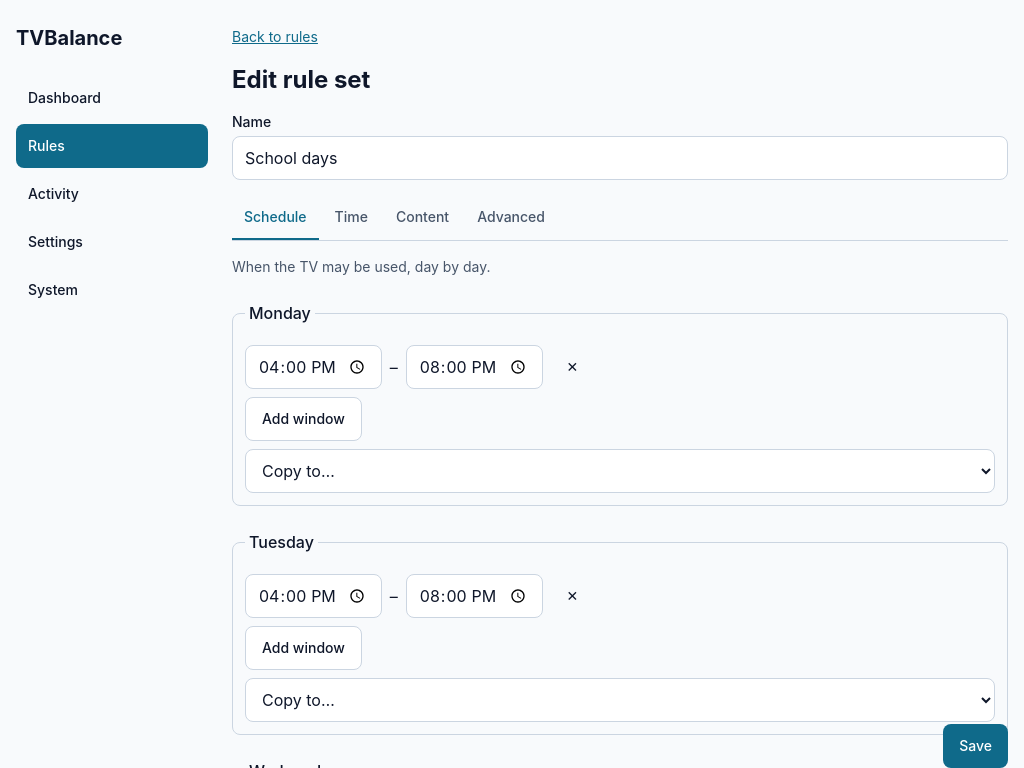
Test: rule editor › saves edits with a PUT carrying the CSRF header
Click the tab "Time" at (351, 218), box x1=323 y1=196 x2=380 y2=240
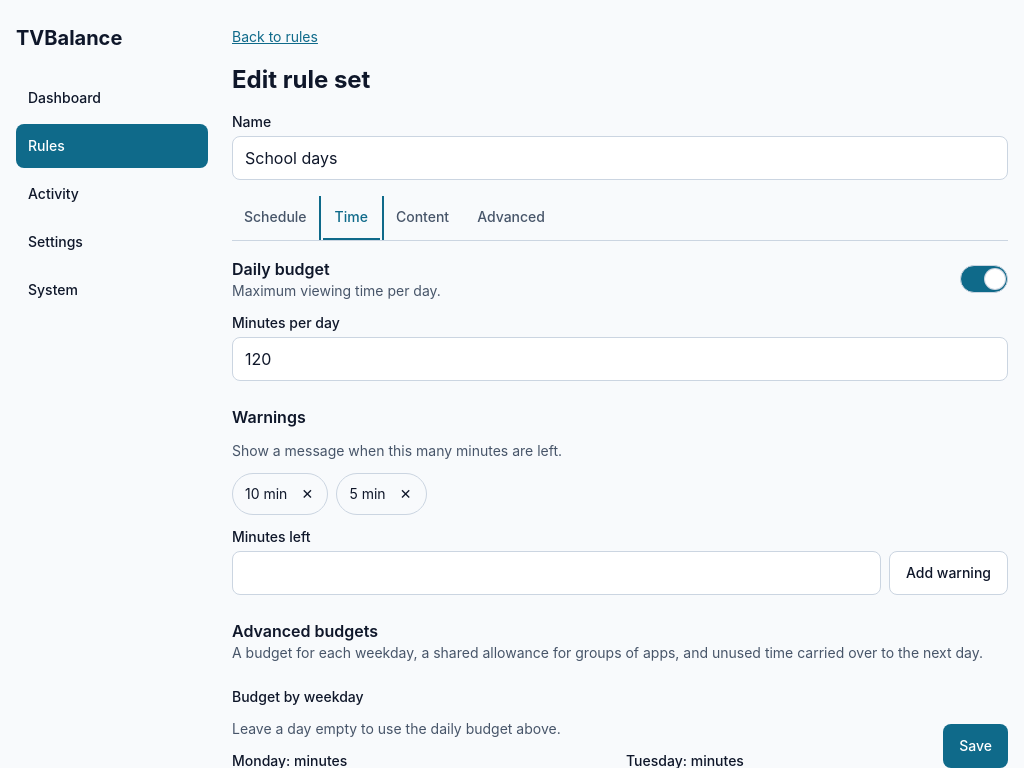
Replace the text in the number field labelled "Minutes per day" with "90" at (620, 359), box x1=232 y1=337 x2=1008 y2=381
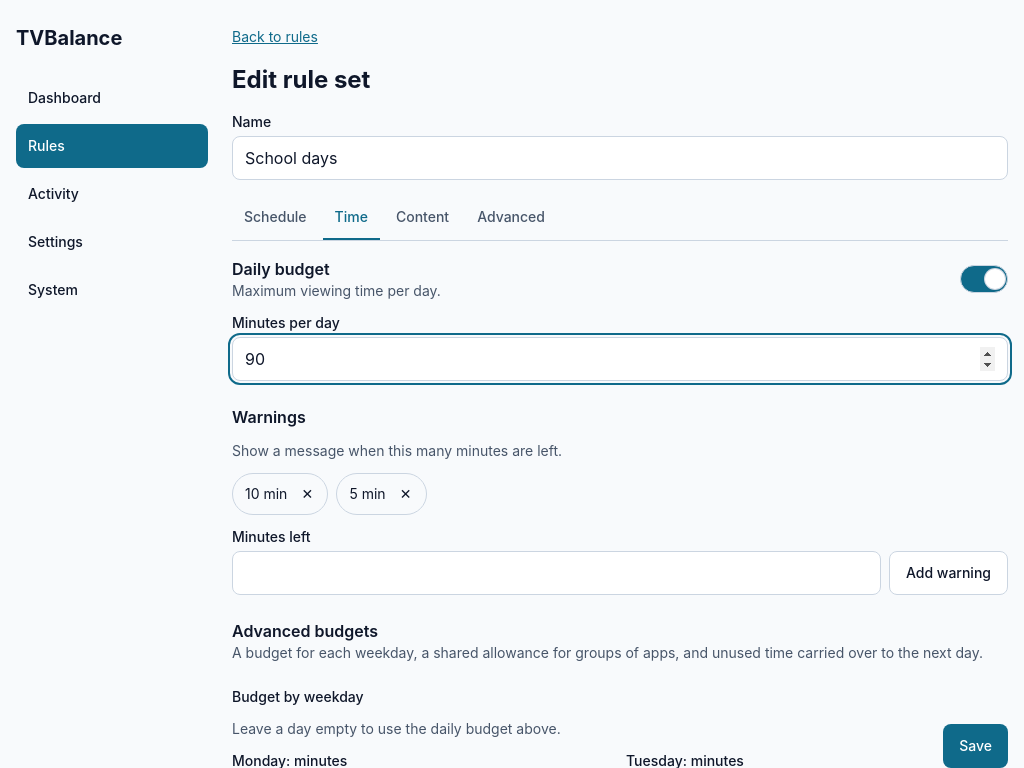
Click the button "Save" at (976, 746), box x1=943 y1=724 x2=1008 y2=767
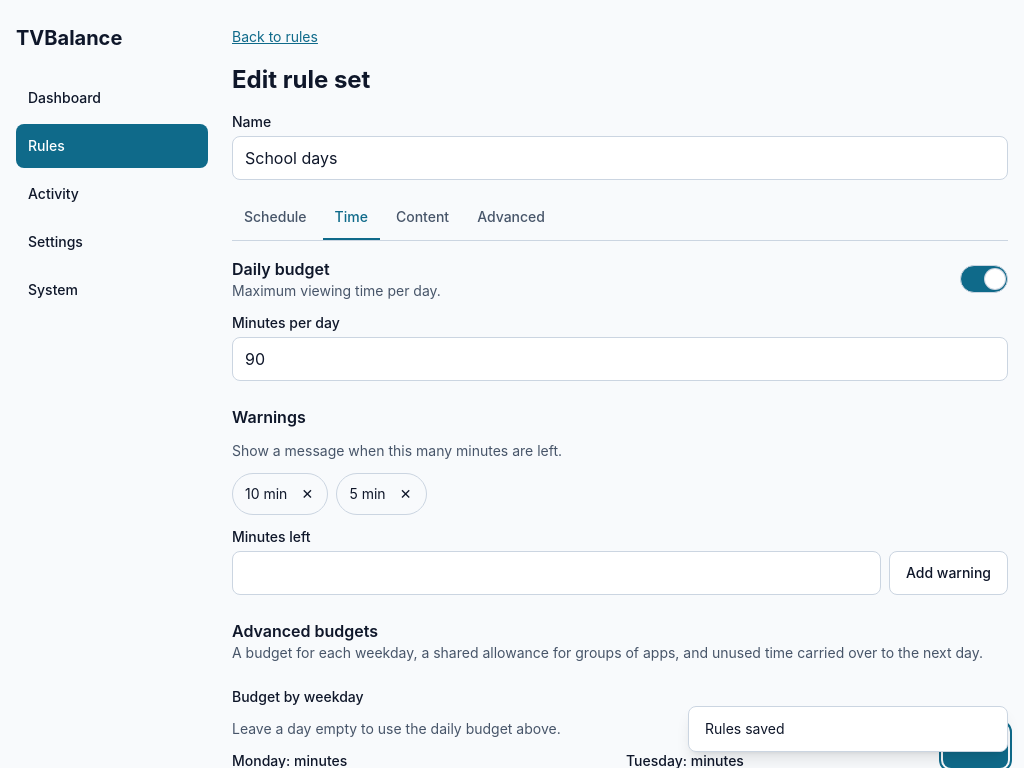
expect the text "Rules saved" is shown: met, box x1=688 y1=706 x2=1008 y2=752
